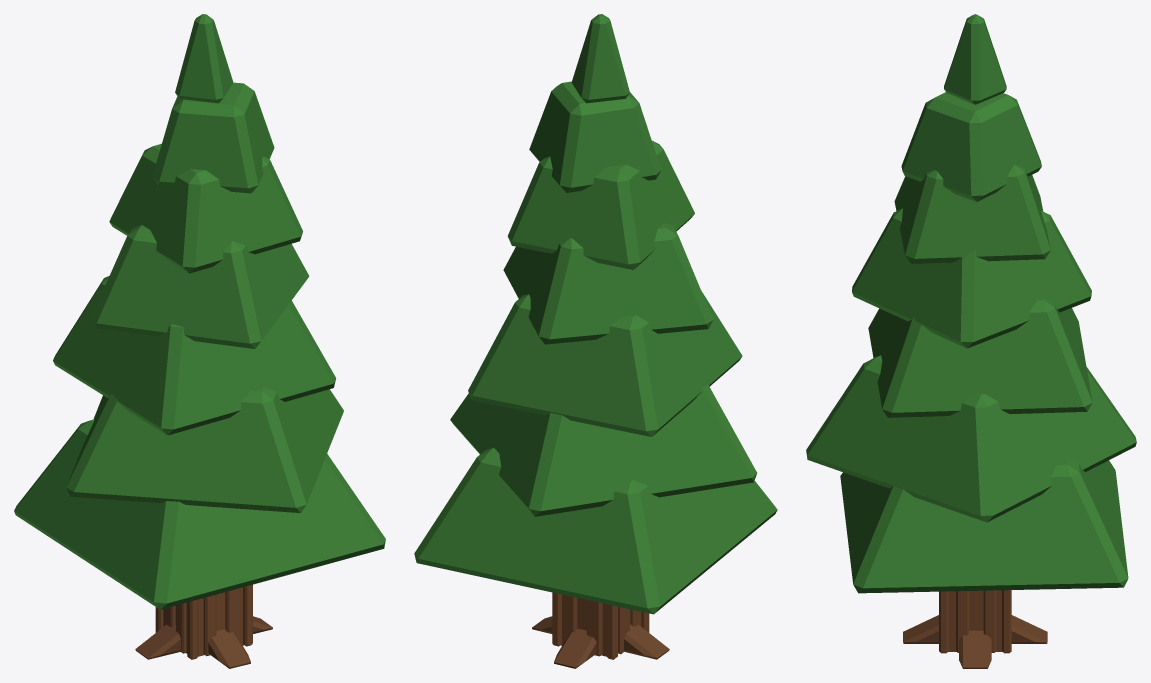
The model's file is Pine2.fbx.
3 renders of one model, left to right at view 1: azimuth 30°, elevation 25°; view 2: azimuth 150°, elevation 25°; view 3: azimuth 270°, elevation 25°, orthographic.
Visible parts, largest first — view 1: Leaves, LeafBlock_1, LeafBlock_2, LeafBlock_3, LeafBlock_4, LeafBlock_5, Trunk, LeafBlock_6, Root_3, Root_2; view 2: Leaves, LeafBlock_2, LeafBlock_1, LeafBlock_3, LeafBlock_4, LeafBlock_5, Trunk, LeafBlock_6, Root_1, Root_2; view 3: Leaves, LeafBlock_1, LeafBlock_2, LeafBlock_3, LeafBlock_4, LeafBlock_5, Trunk, LeafBlock_6, Root_4, Root_1, Root_3.
Part boxes in pixels (x1,y1,x2,y2): Leaves: (14,419,385,609); LeafBlock_1: (66,387,343,512); LeafBlock_2: (53,276,336,435); LeafBlock_3: (90,225,309,348); LeafBlock_4: (109,143,302,273); LeafBlock_5: (152,82,274,193); Trunk: (155,584,252,659); LeafBlock_6: (175,14,233,103); Root_3: (208,629,250,668); Root_2: (135,624,180,659); Leaves: (414,447,777,614); LeafBlock_2: (468,291,742,436); LeafBlock_1: (450,384,756,516); LeafBlock_3: (503,223,713,344); LeafBlock_4: (507,140,694,269); LeafBlock_5: (529,81,661,192); Trunk: (552,592,649,659); LeafBlock_6: (571,14,629,103); Root_1: (554,628,596,668); Root_2: (624,624,669,659); Leaves: (840,460,1128,593); LeafBlock_1: (806,355,1136,522); LeafBlock_2: (868,298,1092,417); LeafBlock_3: (852,208,1091,348); LeafBlock_4: (894,164,1050,263); LeafBlock_5: (901,92,1041,201); Trunk: (939,590,1011,653); LeafBlock_6: (944,14,1006,104); Root_4: (959,630,991,668); Root_1: (1011,615,1047,643); Root_3: (903,615,938,643).
Bounding box in the file's own units: 10.05 × 20.9 × 10.05.
